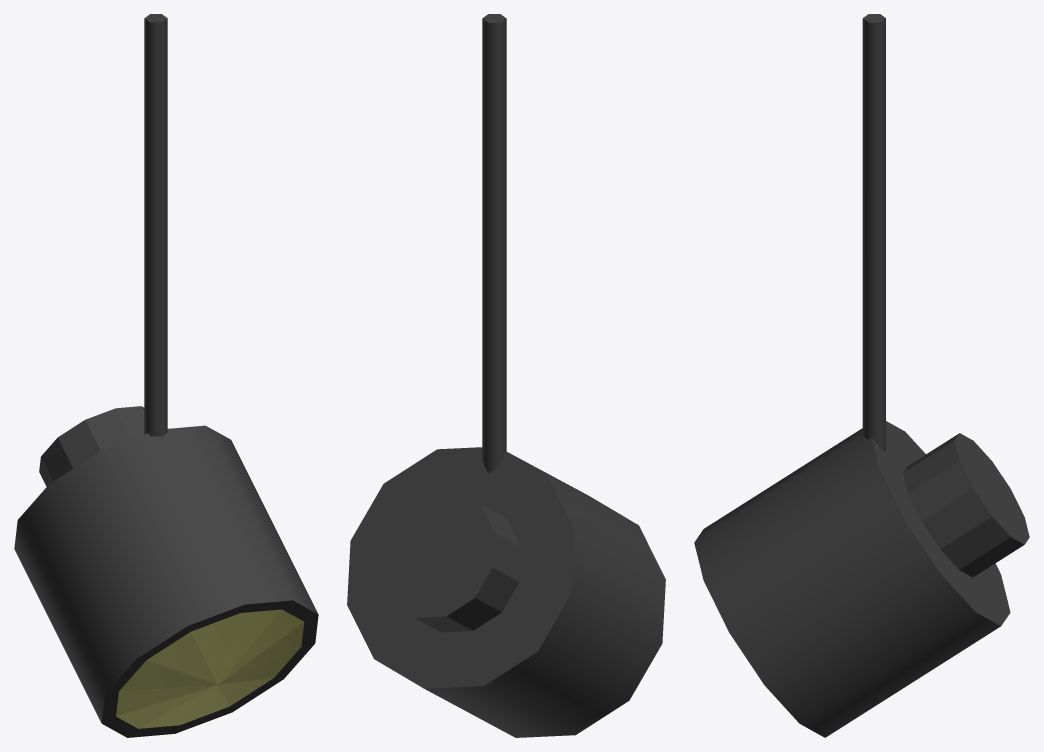
The model's file is Prop_Light.FBX.
3 views of the same model, side by side, from view 1: azimuth 30°, elevation 25°; view 2: azimuth 150°, elevation 25°; view 3: azimuth 270°, elevation 25° (orthographic). The views are drawn at different scales.
Parts seen in each view (by area): view 1: Prop_Light; view 2: Prop_Light; view 3: Prop_Light.
Part boxes in pixels (box(x1,y1,x2,y2)): Prop_Light: box(14, 14, 318, 737); Prop_Light: box(347, 14, 665, 737); Prop_Light: box(694, 14, 1029, 737).
Size of the model in its own units: 0.4924 by 1.57 by 0.6754.
